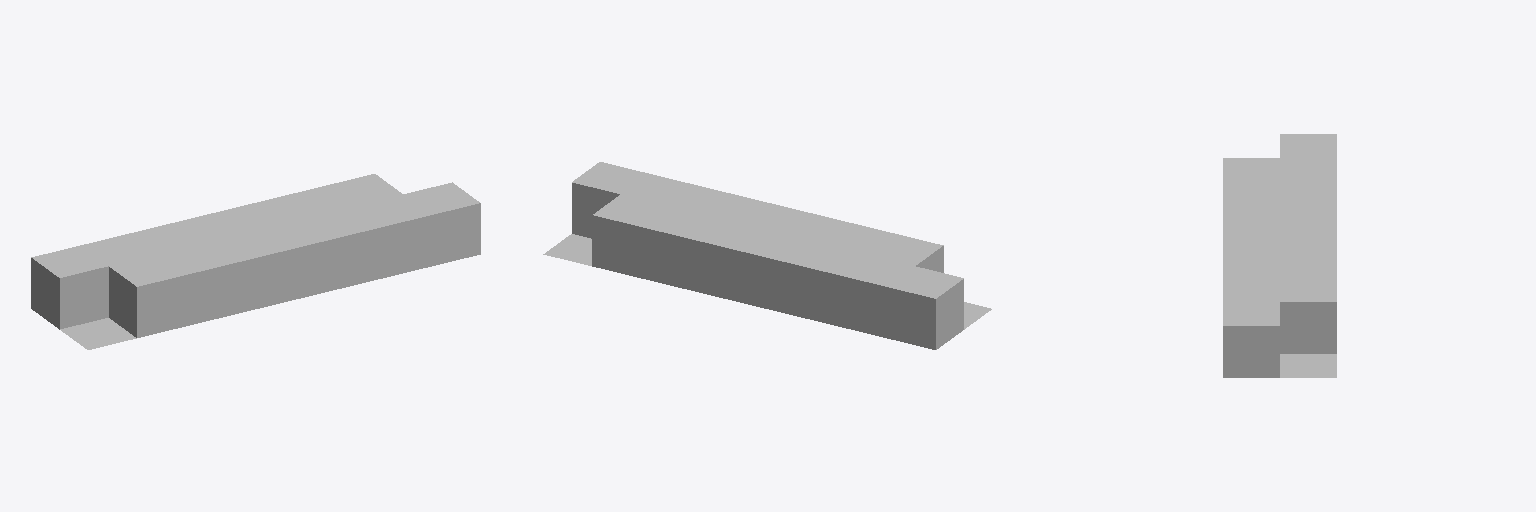
3 renders of one model, left to right at view 1: azimuth 30°, elevation 25°; view 2: azimuth 150°, elevation 25°; view 3: azimuth 270°, elevation 25°, orthographic.
Parts seen in each view (by area): view 1: Object(1,1)[length_1], Object(2,2)[length_1], Object(6,2)[length_1], Object(3,2)[length_1], Object(5,2)[length_1], Object(7,2)[length_1], Object(8,2)[length_1], Object(4,2)[length_1], Object(1,2)[length_0], Object(2,1)[length_1], Object(3,1)[length_1], Object(4,1)[length_1] (+3 smaller); view 2: Object(1,1)[length_1], Object(6,1)[length_1], Object(3,1)[length_1], Object(5,1)[length_1], Object(7,1)[length_1], Object(2,1)[length_1], Object(4,1)[length_1], Object(8,2)[length_1], Object(2,2)[length_1], Object(3,2)[length_1], Object(4,2)[length_1], Object(6,2)[length_1] (+3 smaller); view 3: Object(7,1)[length_1], Object(8,2)[length_1], Object(1,1)[length_1], Object(2,1)[length_1], Object(2,2)[length_1], Object(3,1)[length_1], Object(3,2)[length_1], Object(4,1)[length_1], Object(4,2)[length_1], Object(5,1)[length_1], Object(5,2)[length_1], Object(6,1)[length_1] (+3 smaller).
Part boxes in pixels (bbox=[...]): Object(1,1)[length_1]: bbox=[31, 246, 108, 329]; Object(2,2)[length_1]: bbox=[109, 254, 185, 337]; Object(6,2)[length_1]: bbox=[305, 207, 382, 289]; Object(3,2)[length_1]: bbox=[158, 242, 234, 325]; Object(5,2)[length_1]: bbox=[256, 218, 332, 301]; Object(7,2)[length_1]: bbox=[354, 194, 431, 277]; Object(8,2)[length_1]: bbox=[404, 182, 480, 265]; Object(4,2)[length_1]: bbox=[207, 230, 283, 313]; Object(1,2)[length_0]: bbox=[60, 318, 136, 349]; Object(2,1)[length_1]: bbox=[80, 234, 156, 265]; Object(3,1)[length_1]: bbox=[129, 222, 205, 253]; Object(4,1)[length_1]: bbox=[179, 210, 254, 241]; Object(1,1)[length_1]: bbox=[887, 266, 963, 349]; Object(6,1)[length_1]: bbox=[641, 207, 718, 289]; Object(3,1)[length_1]: bbox=[789, 242, 865, 325]; Object(5,1)[length_1]: bbox=[691, 218, 767, 301]; Object(7,1)[length_1]: bbox=[592, 194, 669, 277]; Object(2,1)[length_1]: bbox=[838, 254, 914, 337]; Object(4,1)[length_1]: bbox=[740, 230, 816, 313]; Object(8,2)[length_1]: bbox=[572, 162, 648, 238]; Object(2,2)[length_1]: bbox=[867, 234, 943, 272]; Object(3,2)[length_1]: bbox=[818, 222, 894, 253]; Object(4,2)[length_1]: bbox=[769, 210, 844, 241]; Object(6,2)[length_1]: bbox=[670, 186, 746, 217]; Object(7,1)[length_1]: bbox=[1280, 278, 1336, 353]; Object(8,2)[length_1]: bbox=[1223, 302, 1279, 377]; Object(1,1)[length_1]: bbox=[1280, 134, 1336, 157]; Object(2,1)[length_1]: bbox=[1280, 158, 1336, 181]; Object(2,2)[length_1]: bbox=[1223, 158, 1279, 181]; Object(3,1)[length_1]: bbox=[1280, 182, 1336, 205]; Object(3,2)[length_1]: bbox=[1223, 182, 1279, 205]; Object(4,1)[length_1]: bbox=[1280, 206, 1336, 229]; Object(4,2)[length_1]: bbox=[1223, 206, 1279, 229]; Object(5,1)[length_1]: bbox=[1280, 230, 1336, 253]; Object(5,2)[length_1]: bbox=[1223, 230, 1279, 253]; Object(6,1)[length_1]: bbox=[1280, 254, 1336, 277].
Bounding box in the file's own units: 8 × 1 × 2.